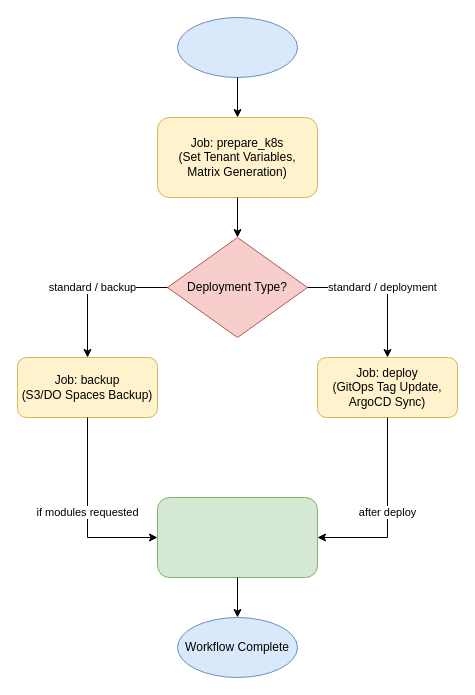
Some shapes in this 475 by 695 pixel diagram are drawn without their labels. The shapes that lost their labels are listed below. From the top down, each one's centre as x and y in pixels, then its label:
At [237,47]: "workflow_dispatch (User Input)".
At [237,537]: "Job: module_management (Pod Module Upgrade / Install)".
